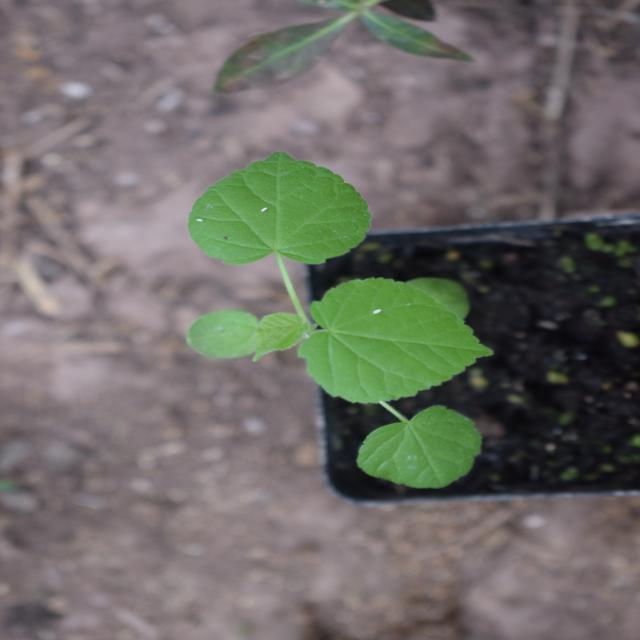abutilon theophrasti: (132, 158, 472, 534)
